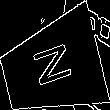N_W: (28, 42, 76, 94)
